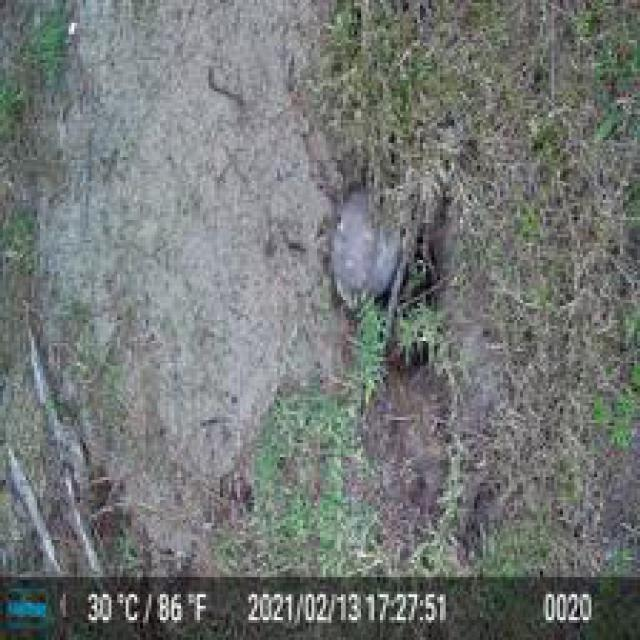tortoise: (323, 174, 423, 308)
